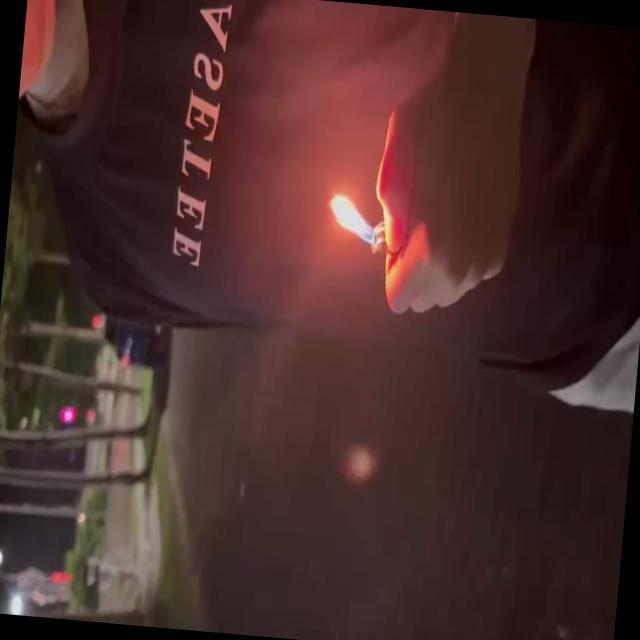Fire: (322, 189, 382, 261)
